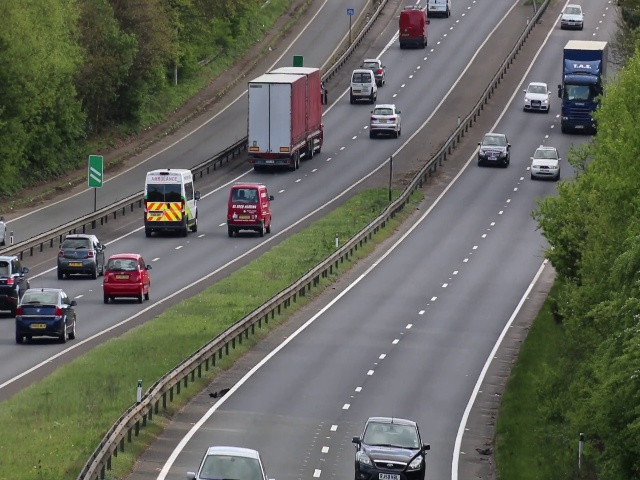car: (247, 68, 325, 174), (352, 410, 427, 480), (141, 167, 200, 238), (561, 37, 600, 136), (12, 286, 77, 343), (227, 186, 275, 239), (104, 253, 152, 306), (56, 231, 106, 277), (1, 254, 31, 314), (396, 8, 431, 48), (480, 132, 509, 170), (522, 79, 551, 114), (370, 100, 399, 135), (530, 147, 561, 179), (350, 69, 377, 101), (560, 7, 584, 29)
